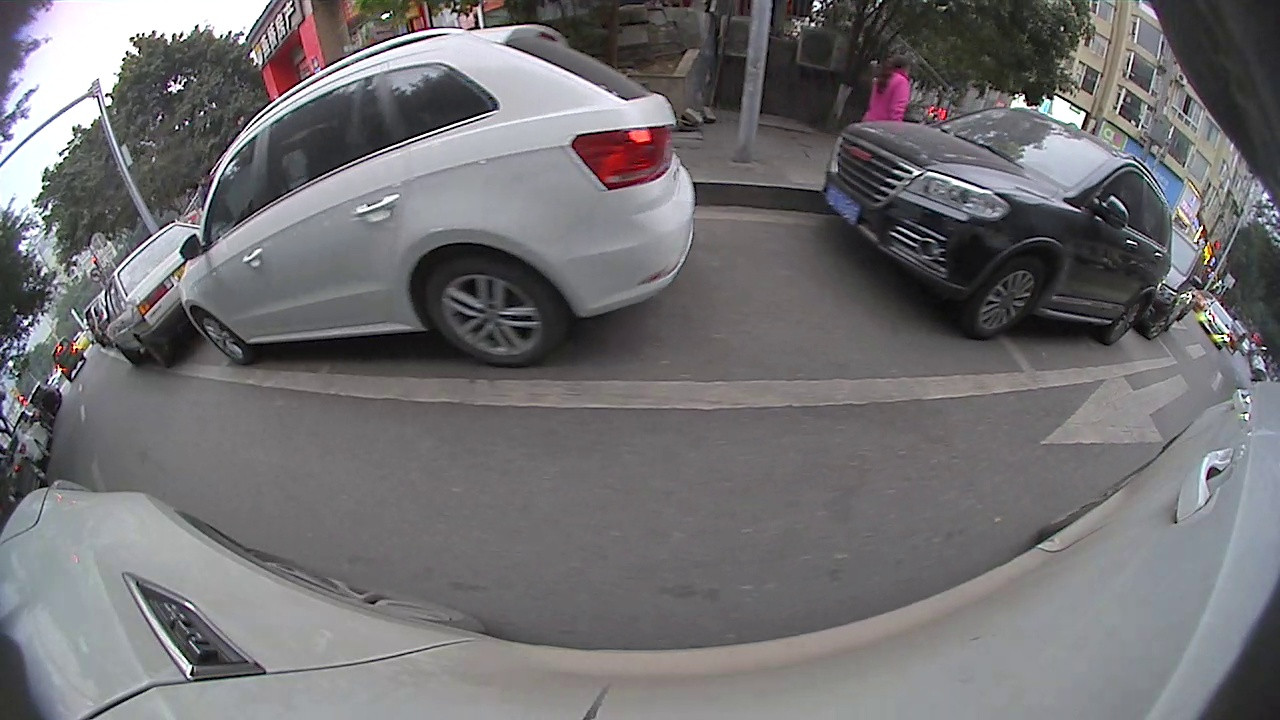car: (174, 20, 699, 371), (817, 102, 1175, 349), (102, 217, 217, 374), (1136, 211, 1209, 344)
front: (973, 259, 1046, 336), (192, 313, 254, 365)
person: (865, 48, 919, 122)
rear: (428, 251, 563, 366), (1109, 290, 1147, 345)
